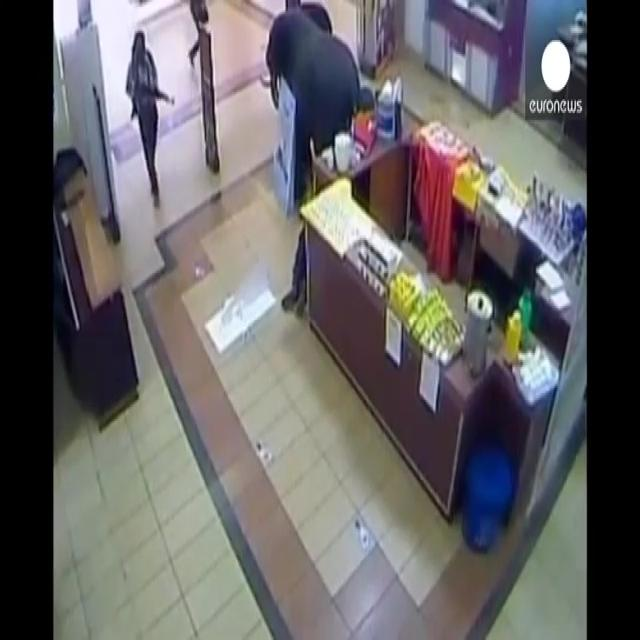Weapon: (129, 64, 180, 114)
